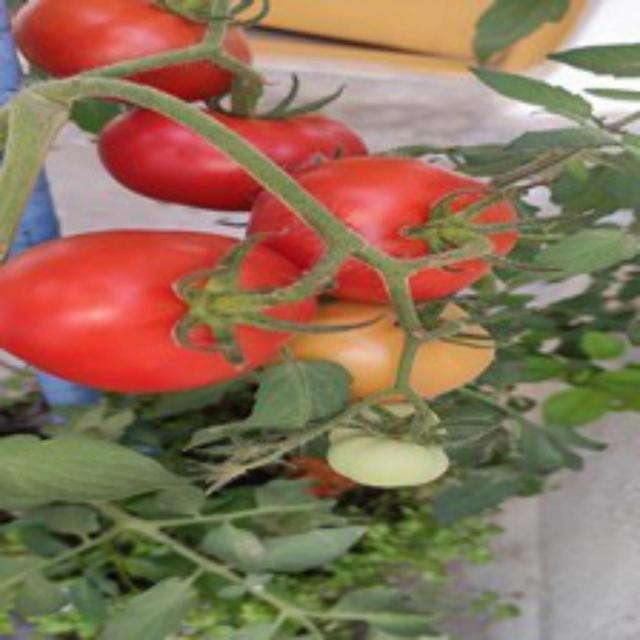tomato: (0, 208, 306, 390), (257, 140, 524, 318), (103, 64, 400, 218), (11, 0, 262, 134)
